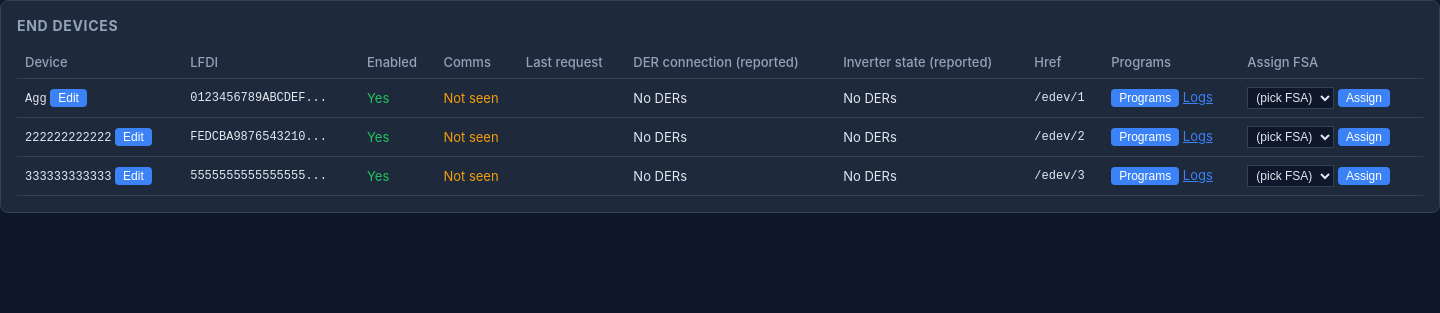
Test: Devices tab Edit kind and devices › makes a device an aggregator: saves the kind first, then one pair per ticked device
Click the button "Edit" next to "Agg" at (69, 98), box x1=50 y1=89 x2=87 y2=107
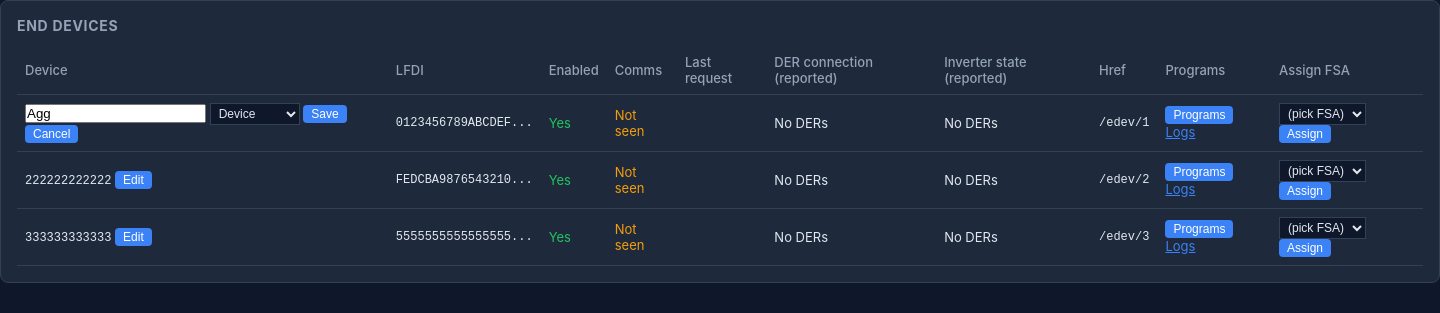
Select "Aggregator" in the dropdown with test id "device-kind-select" at (255, 114), box x1=210 y1=103 x2=300 y2=125
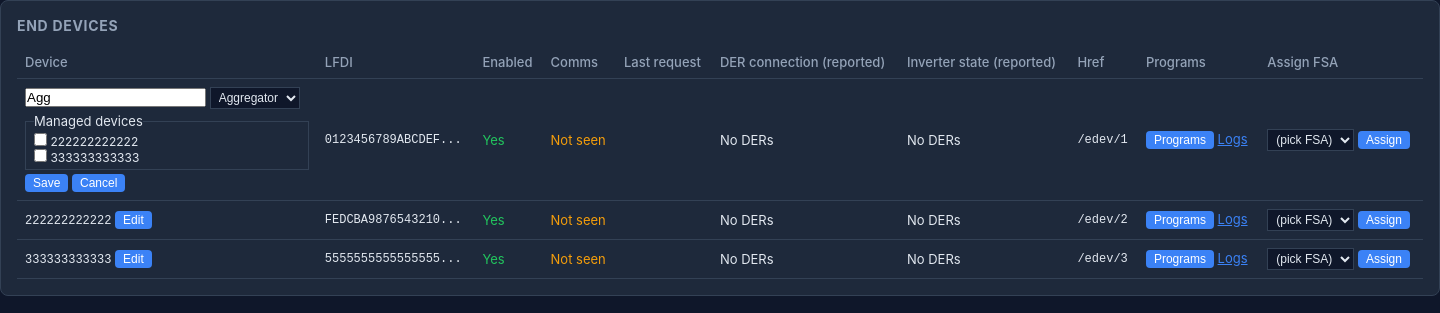
Expected: the number of checkboxes with test id "device-picker-option" is 2
Click the checkbox labelled "222222222222" at (40, 140), box x1=34 y1=133 x2=47 y2=146
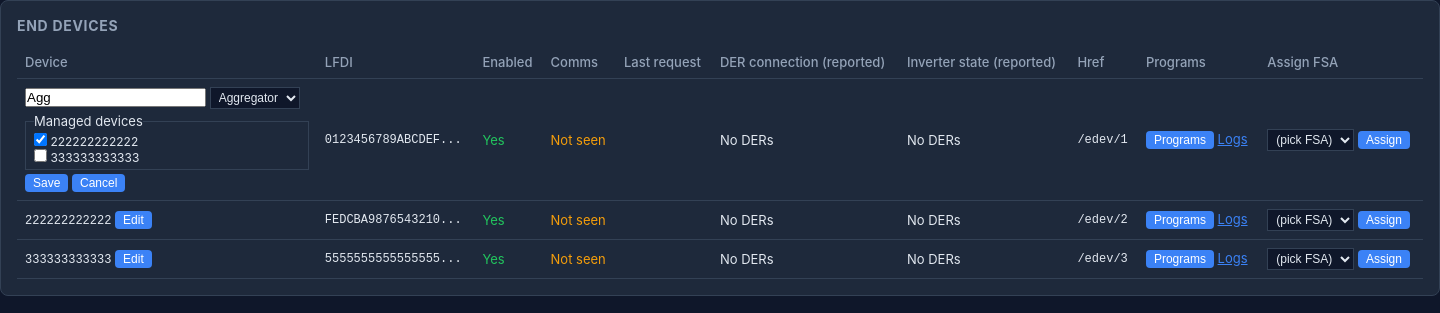
Click the checkbox labelled "333333333333" at (40, 156), box x1=34 y1=149 x2=47 y2=162
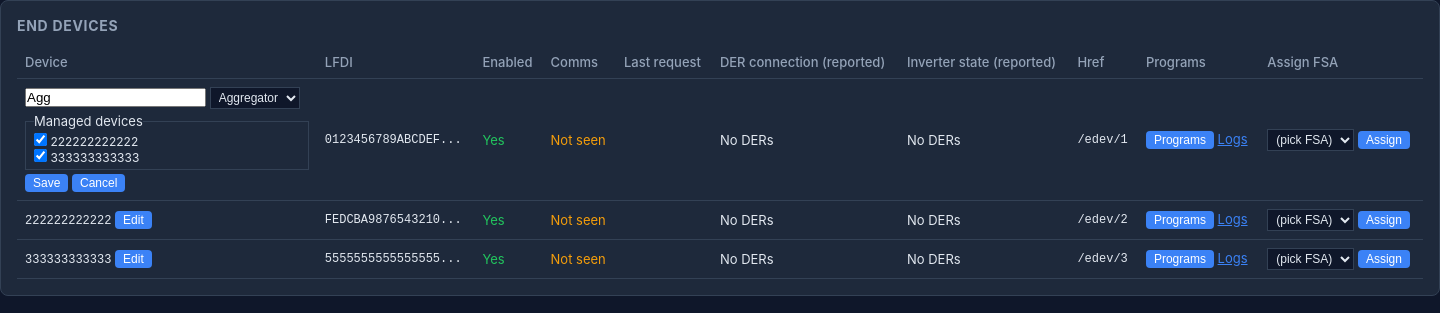
Click the button with test id "device-name-save" at (47, 183), box x1=25 y1=174 x2=68 y2=192
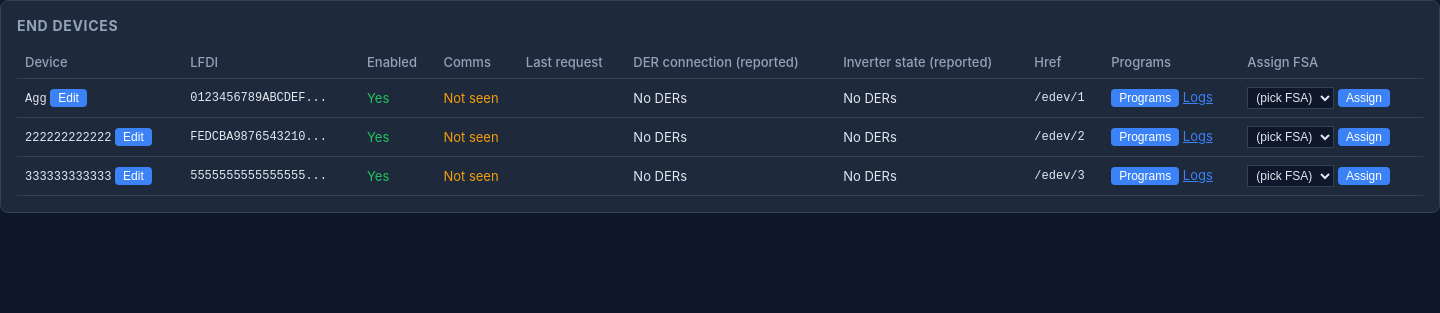
Expected: the field with test id "device-name-input" is gone
